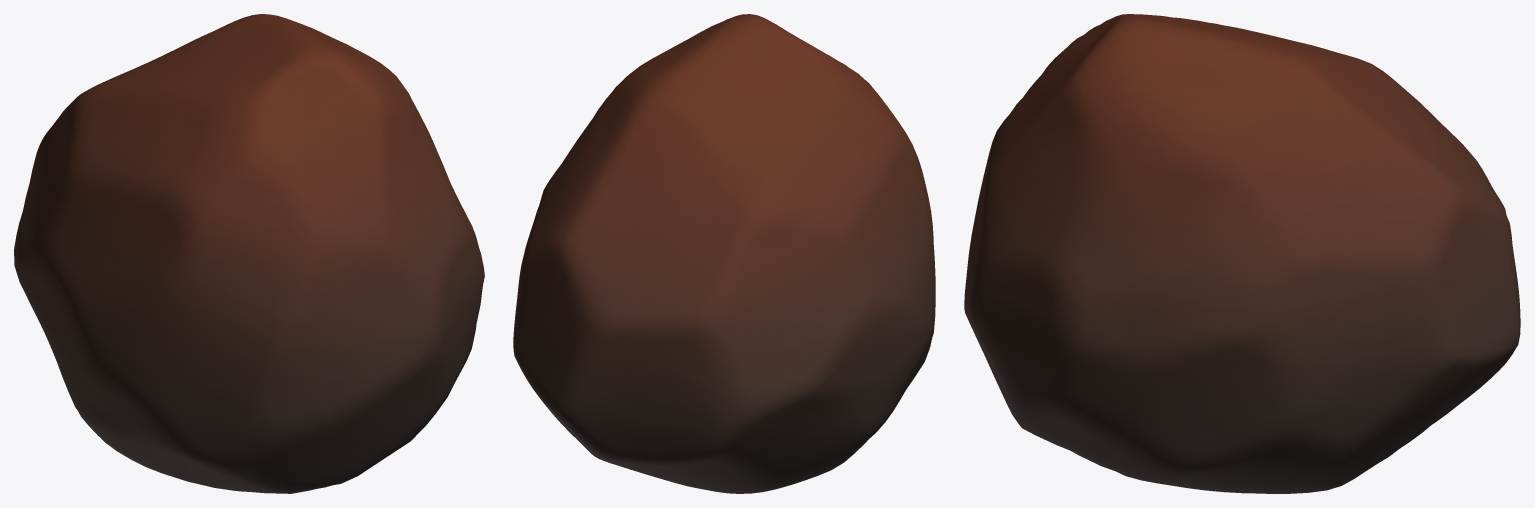
File: Rock11_Textured.fbx
3 views of the same model, side by side, from view 1: azimuth 30°, elevation 25°; view 2: azimuth 150°, elevation 25°; view 3: azimuth 270°, elevation 25° (orthographic). The views are drawn at different scales.
Visible parts, largest first — view 1: GameJam_Rock2_ModelZbrush:Group30623; view 2: GameJam_Rock2_ModelZbrush:Group30623; view 3: GameJam_Rock2_ModelZbrush:Group30623.
Part boxes in pixels (x1,y1,x2,y2): GameJam_Rock2_ModelZbrush:Group30623: [14, 14, 484, 493]; GameJam_Rock2_ModelZbrush:Group30623: [513, 14, 935, 493]; GameJam_Rock2_ModelZbrush:Group30623: [964, 14, 1520, 493].
Size of the model in its own units: 1.2 by 1.32 by 1.48.
Materials: 1 (1 with a texture image).
